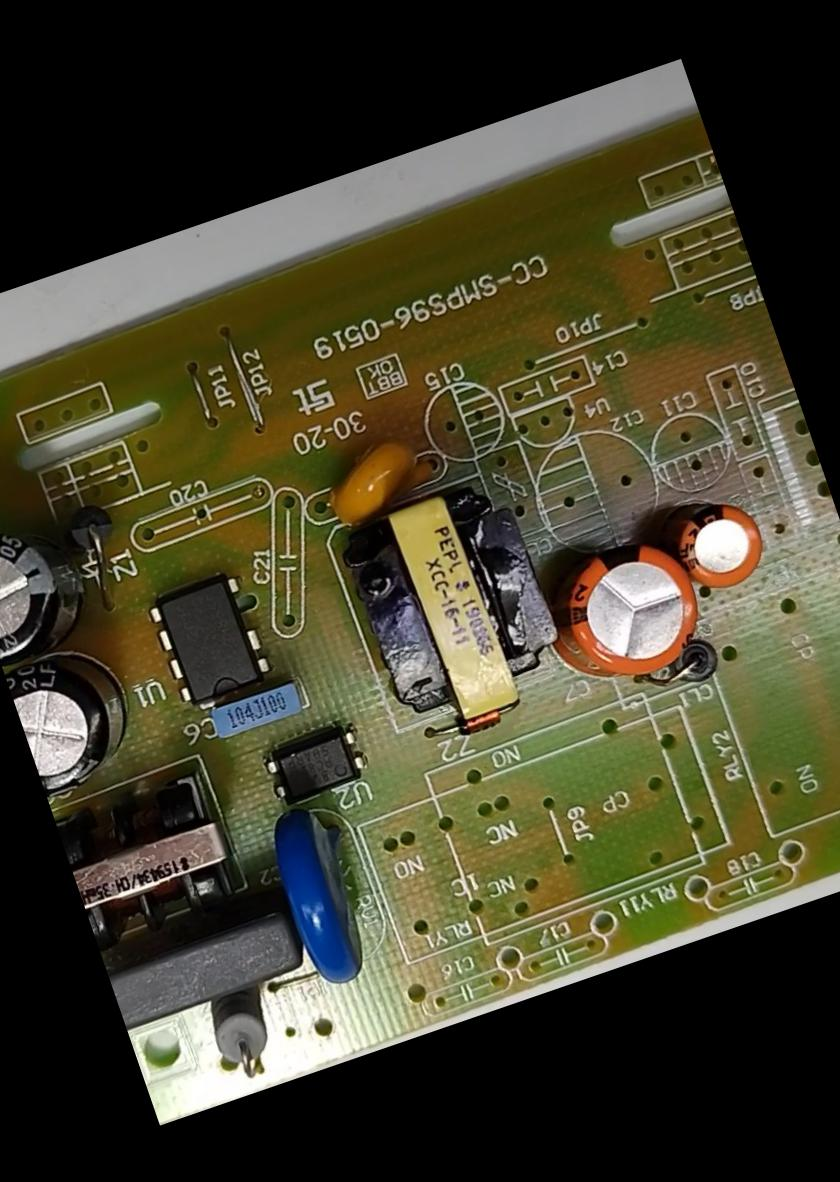Cap1: (518, 509, 724, 717)
Cap2: (650, 471, 783, 608)
Cap3: (1, 626, 157, 796)
Cap4: (0, 486, 129, 674)
MOSFET: (127, 558, 283, 723)
Mov: (251, 788, 400, 998)
Resistor: (190, 988, 282, 1090)
Transformer: (314, 456, 579, 753), (51, 758, 252, 958)
